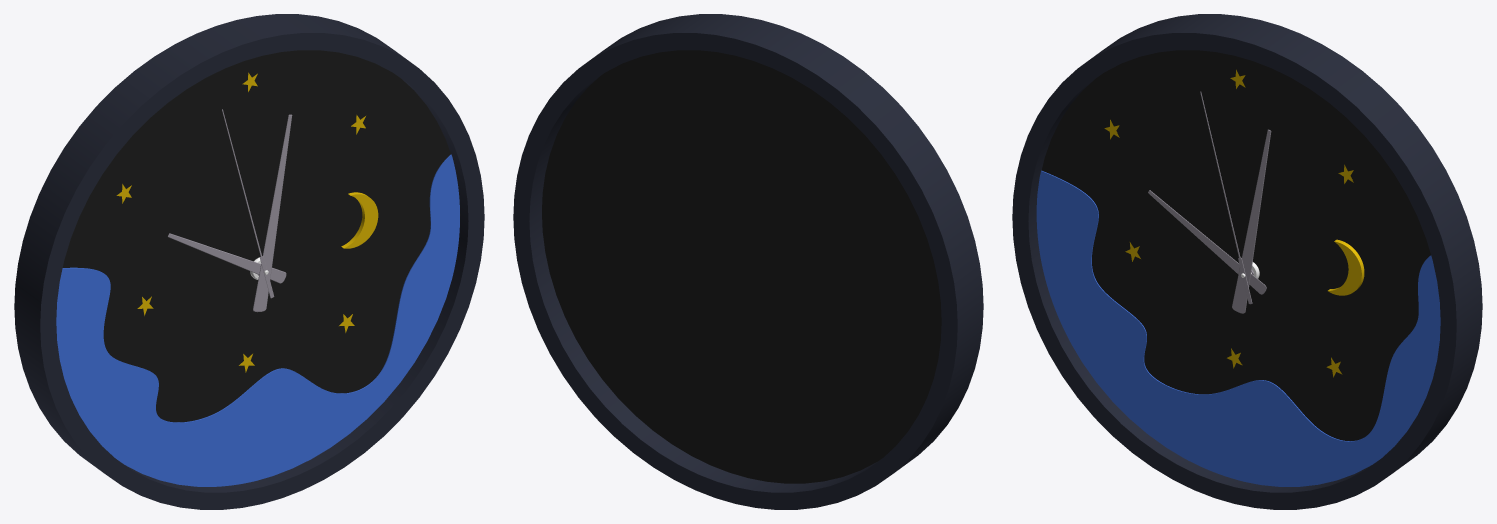
Rendered from saat008.fbx.
The picture shows the model from 3 angles, left to right: view 1: azimuth 30°, elevation 25°; view 2: azimuth 150°, elevation 25°; view 3: azimuth 330°, elevation 25°; orthographic projection.
Parts seen in each view (by area): view 1: Lines, Cloth_2; view 2: Lines; view 3: Lines, Cloth_2.
Boxes of the visible parts, x1,y1,x2,y2 form: Lines: (14, 14, 484, 509); Cloth_2: (168, 109, 292, 312); Lines: (513, 14, 983, 509); Lines: (1012, 14, 1482, 509); Cloth_2: (1148, 91, 1271, 313).
Bounding box in the file's own units: 49.64 × 49.64 × 5.
